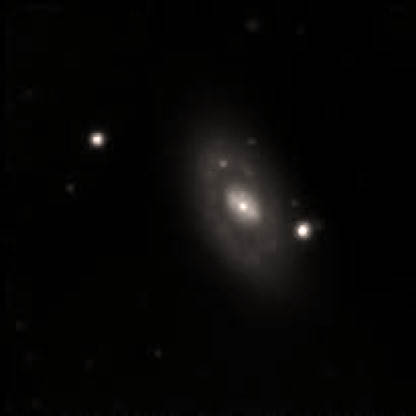NGC 4102: (171, 103, 327, 291)
